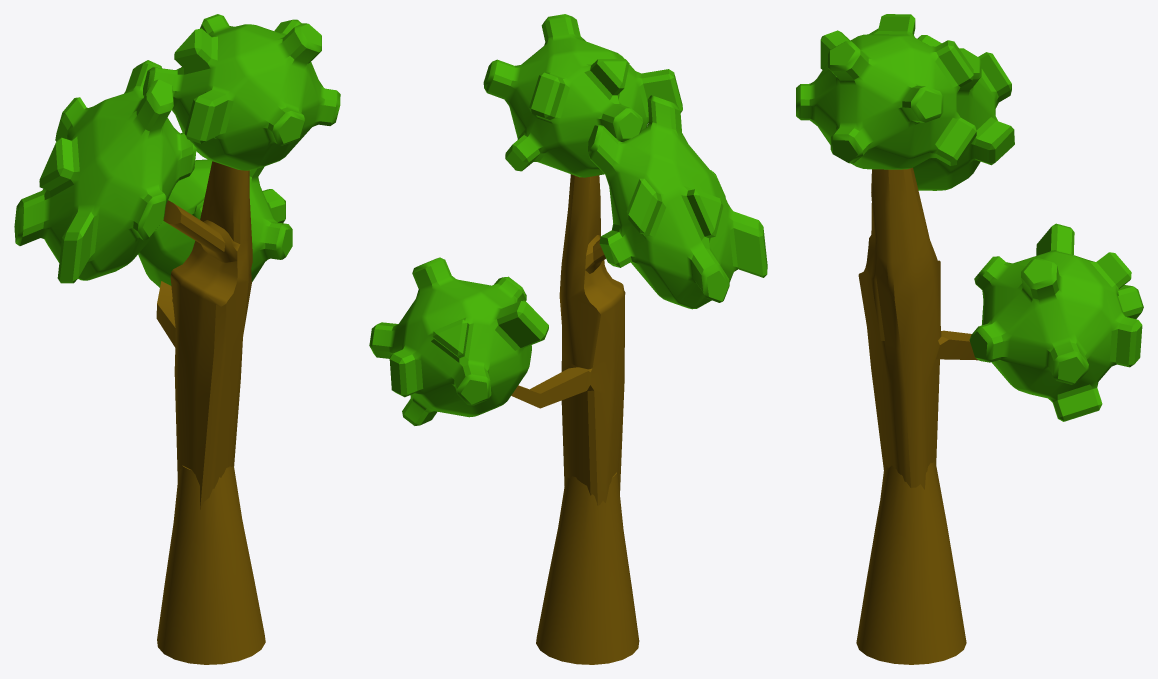
Rendered from WOOD 1.fbx.
3 renders of one model, left to right at view 1: azimuth 30°, elevation 25°; view 2: azimuth 150°, elevation 25°; view 3: azimuth 270°, elevation 25°, orthographic. The views are drawn at different scales.
Visible parts, largest first — view 1: pasted__pPlatonic2, polySurface2, pasted__pPlatonic1, pCylinder1, pPlatonic1; view 2: pasted__pPlatonic2, pPlatonic1, polySurface2, pasted__pPlatonic1, pCylinder1; view 3: pPlatonic1, polySurface2, pasted__pPlatonic1, pCylinder1, pasted__pPlatonic2.
Part boxes in pixels (left/top/right/bottom): pasted__pPlatonic2: left=14, top=60, right=196, bottom=283; polySurface2: left=156, top=161, right=252, bottom=510; pasted__pPlatonic1: left=143, top=14, right=340, bottom=170; pCylinder1: left=157, top=465, right=265, bottom=664; pPlatonic1: left=138, top=159, right=292, bottom=287; pasted__pPlatonic2: left=588, top=95, right=767, bottom=309; pPlatonic1: left=369, top=257, right=548, bottom=425; polySurface2: left=511, top=174, right=625, bottom=505; pasted__pPlatonic1: left=483, top=14, right=682, bottom=177; pCylinder1: left=536, top=472, right=639, bottom=664; pPlatonic1: left=969, top=223, right=1143, bottom=421; polySurface2: left=858, top=167, right=978, bottom=489; pasted__pPlatonic1: left=796, top=14, right=976, bottom=169; pCylinder1: left=856, top=460, right=966, bottom=664; pasted__pPlatonic2: left=869, top=28, right=1014, bottom=190.
Bounding box in the file's own units: 8.23 × 15.43 × 7.71.
